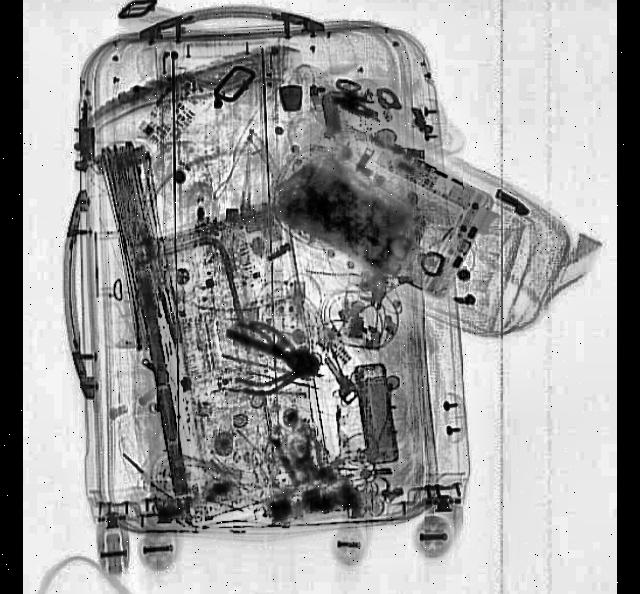Pliers: (230, 320, 332, 406), (235, 317, 328, 405)
